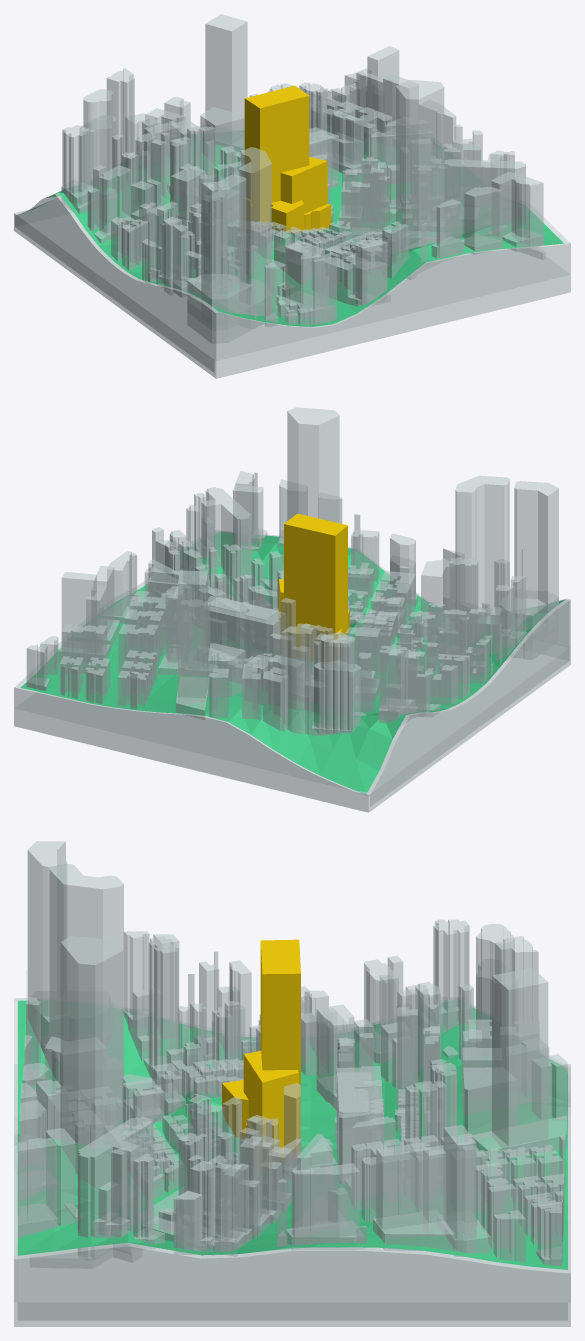
The model's file is transparent.glb.
3 views of the same model, one above another, from view 1: azimuth 30°, elevation 25°; view 2: azimuth 150°, elevation 25°; view 3: azimuth 270°, elevation 25° (orthographic). The views are drawn at different scales.
Visible parts, largest first — view 1: Model, Group679, Group680, Group519, Group304, Group395, Group215, Group357, Group43, Group25, Group474, Group154 (+87 smaller); view 2: Group679, Model, Group680, Group395, Group215, Group304, Group519, Group43, Group82, Group357, Group637, Group172 (+75 smaller); view 3: Group679, Model, Group680, Group519, Group215, Group43, Group357, Group304, Group395, Group45, Group196, Group198 (+105 smaller).
Boxes of the visible parts, x1,y1,x2,y2 form: Model: [14, 196, 570, 378]; Group679: [23, 126, 563, 326]; Group680: [15, 158, 568, 372]; Group519: [396, 80, 444, 251]; Group304: [201, 174, 246, 325]; Group395: [244, 85, 309, 222]; Group215: [239, 147, 271, 328]; Group357: [444, 154, 525, 236]; Group43: [205, 14, 247, 144]; Group25: [285, 240, 324, 319]; Group474: [187, 274, 254, 330]; Group154: [464, 186, 502, 253]; Group679: [20, 531, 564, 794]; Model: [14, 529, 570, 812]; Group680: [15, 531, 569, 806]; Group395: [284, 513, 347, 653]; Group215: [455, 475, 509, 631]; Group304: [514, 481, 558, 631]; Group519: [287, 407, 339, 522]; Group43: [178, 570, 208, 705]; Group82: [207, 596, 285, 667]; Group357: [201, 487, 251, 586]; Group637: [281, 623, 313, 734]; Group172: [314, 660, 361, 734]; Group679: [17, 999, 567, 1269]; Model: [14, 998, 570, 1326]; Group680: [17, 996, 567, 1320]; Group519: [60, 936, 123, 1187]; Group215: [49, 864, 123, 1099]; Group43: [492, 967, 548, 1152]; Group357: [77, 1116, 153, 1259]; Group304: [27, 841, 67, 1049]; Group395: [260, 939, 300, 1108]; Group45: [292, 1163, 359, 1247]; Group196: [376, 1142, 428, 1239]; Group198: [351, 1139, 413, 1221].
Bounding box in the file's own units: 32.52 × 18.69 × 32.11.
